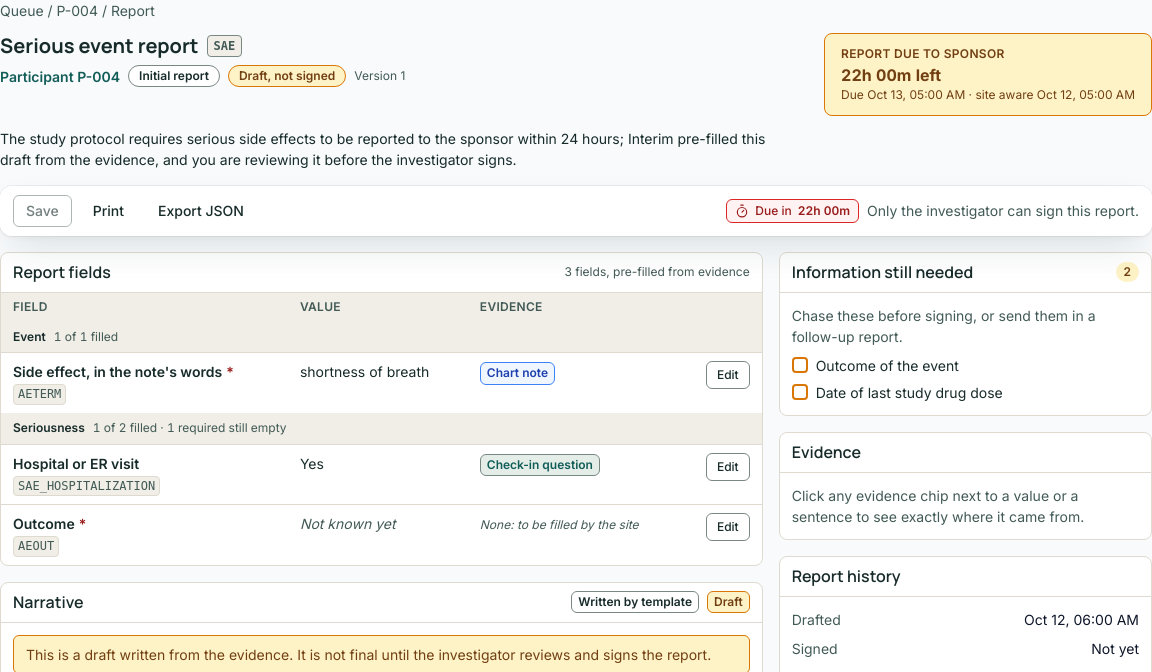
Test case: PacketPage: editing and saving › shows the save error without losing staged edits
Click the button with aria-label "Edit Outcome": (728, 527) 706,513 -> 750,541
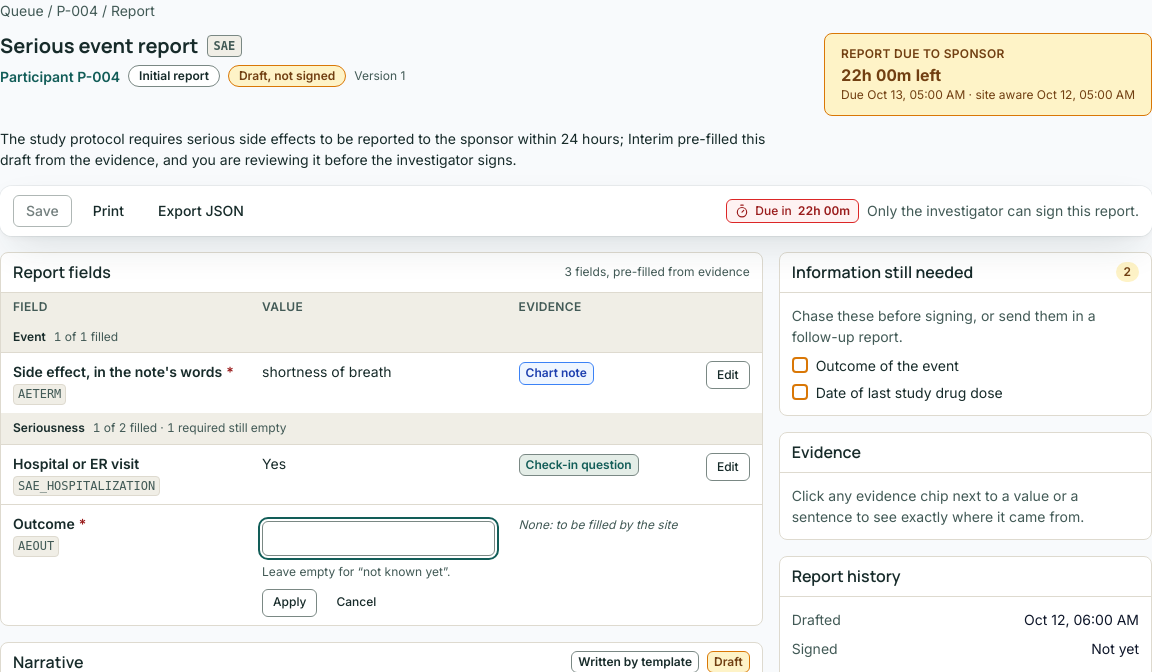
In the field named "New value for Outcome": (378, 539) 262,521 -> 495,556, type "x"
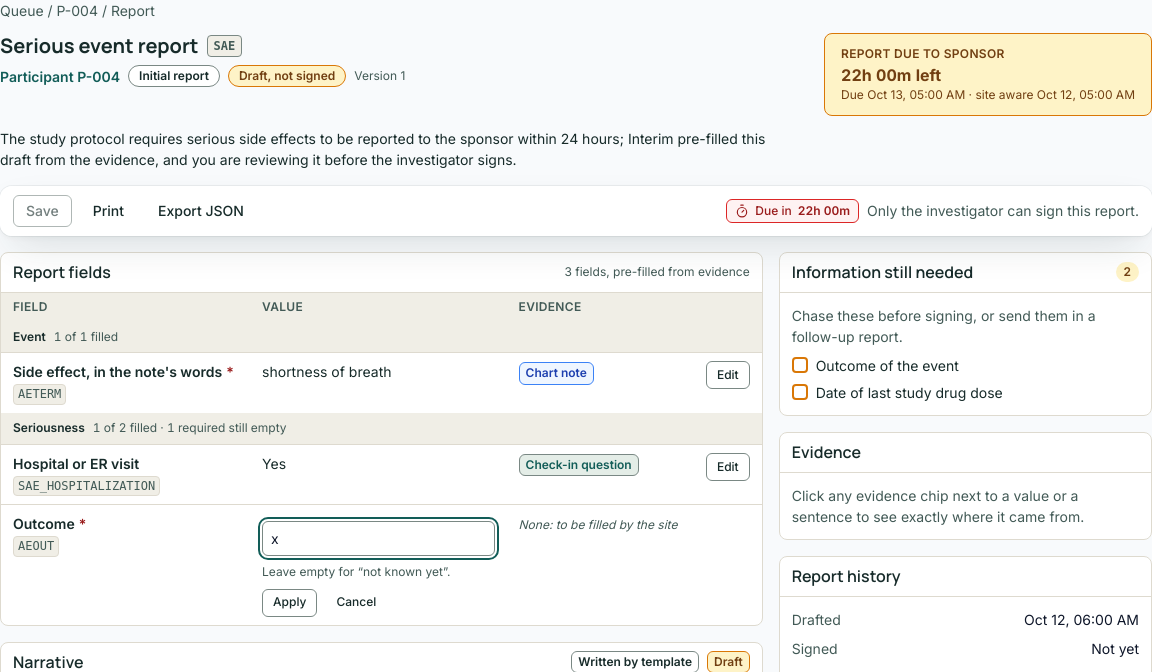
Click the button "Apply": (290, 602) 262,588 -> 318,616
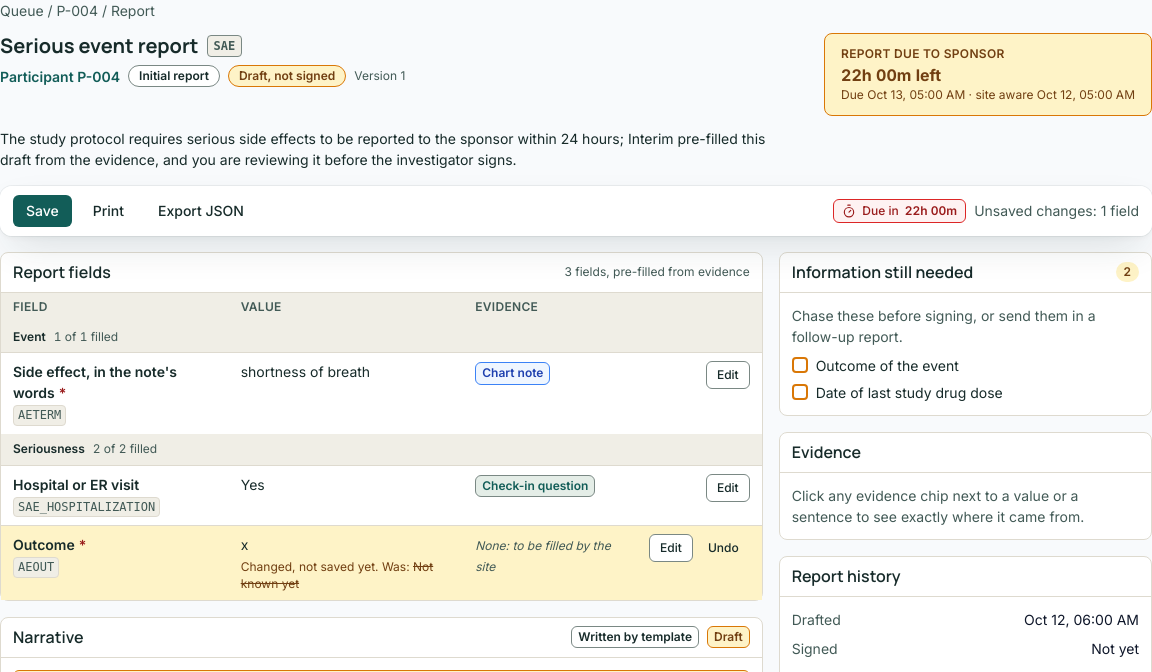
Click the button "Save": (42, 211) 13,195 -> 72,227
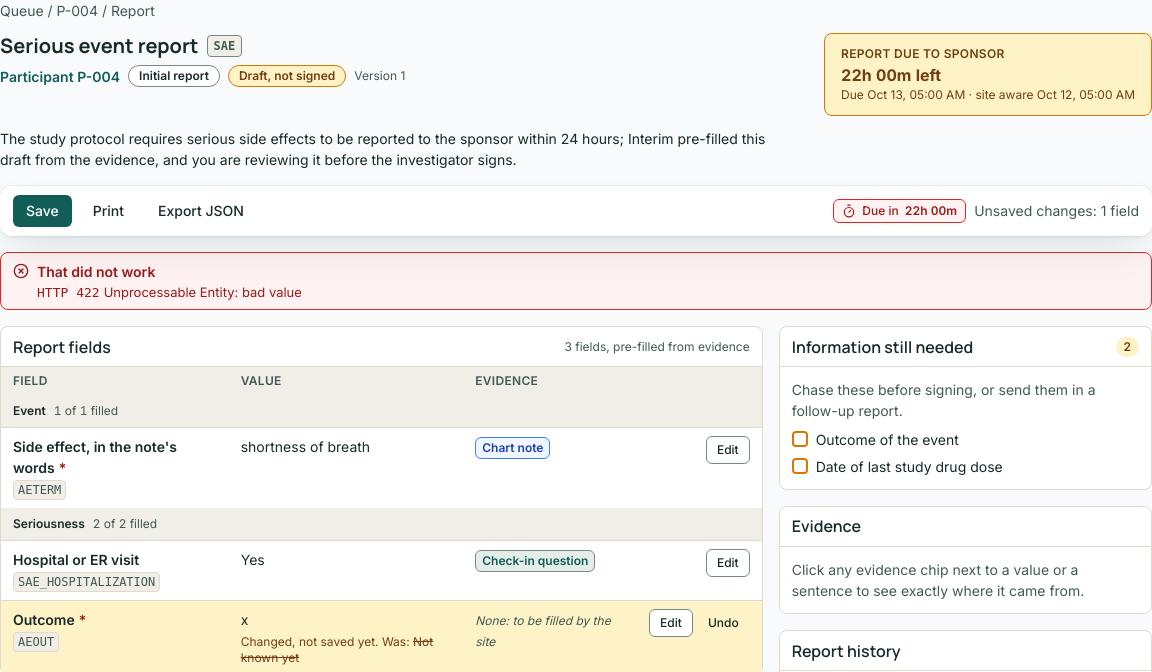
Expected: the text "Changed, not saved yet. Was: Not known yet" is shown, 241,634 -> 451,666
Expected: the text "HTTP 422Unprocessable Entity: bad value" is shown, 37,284 -> 302,301
